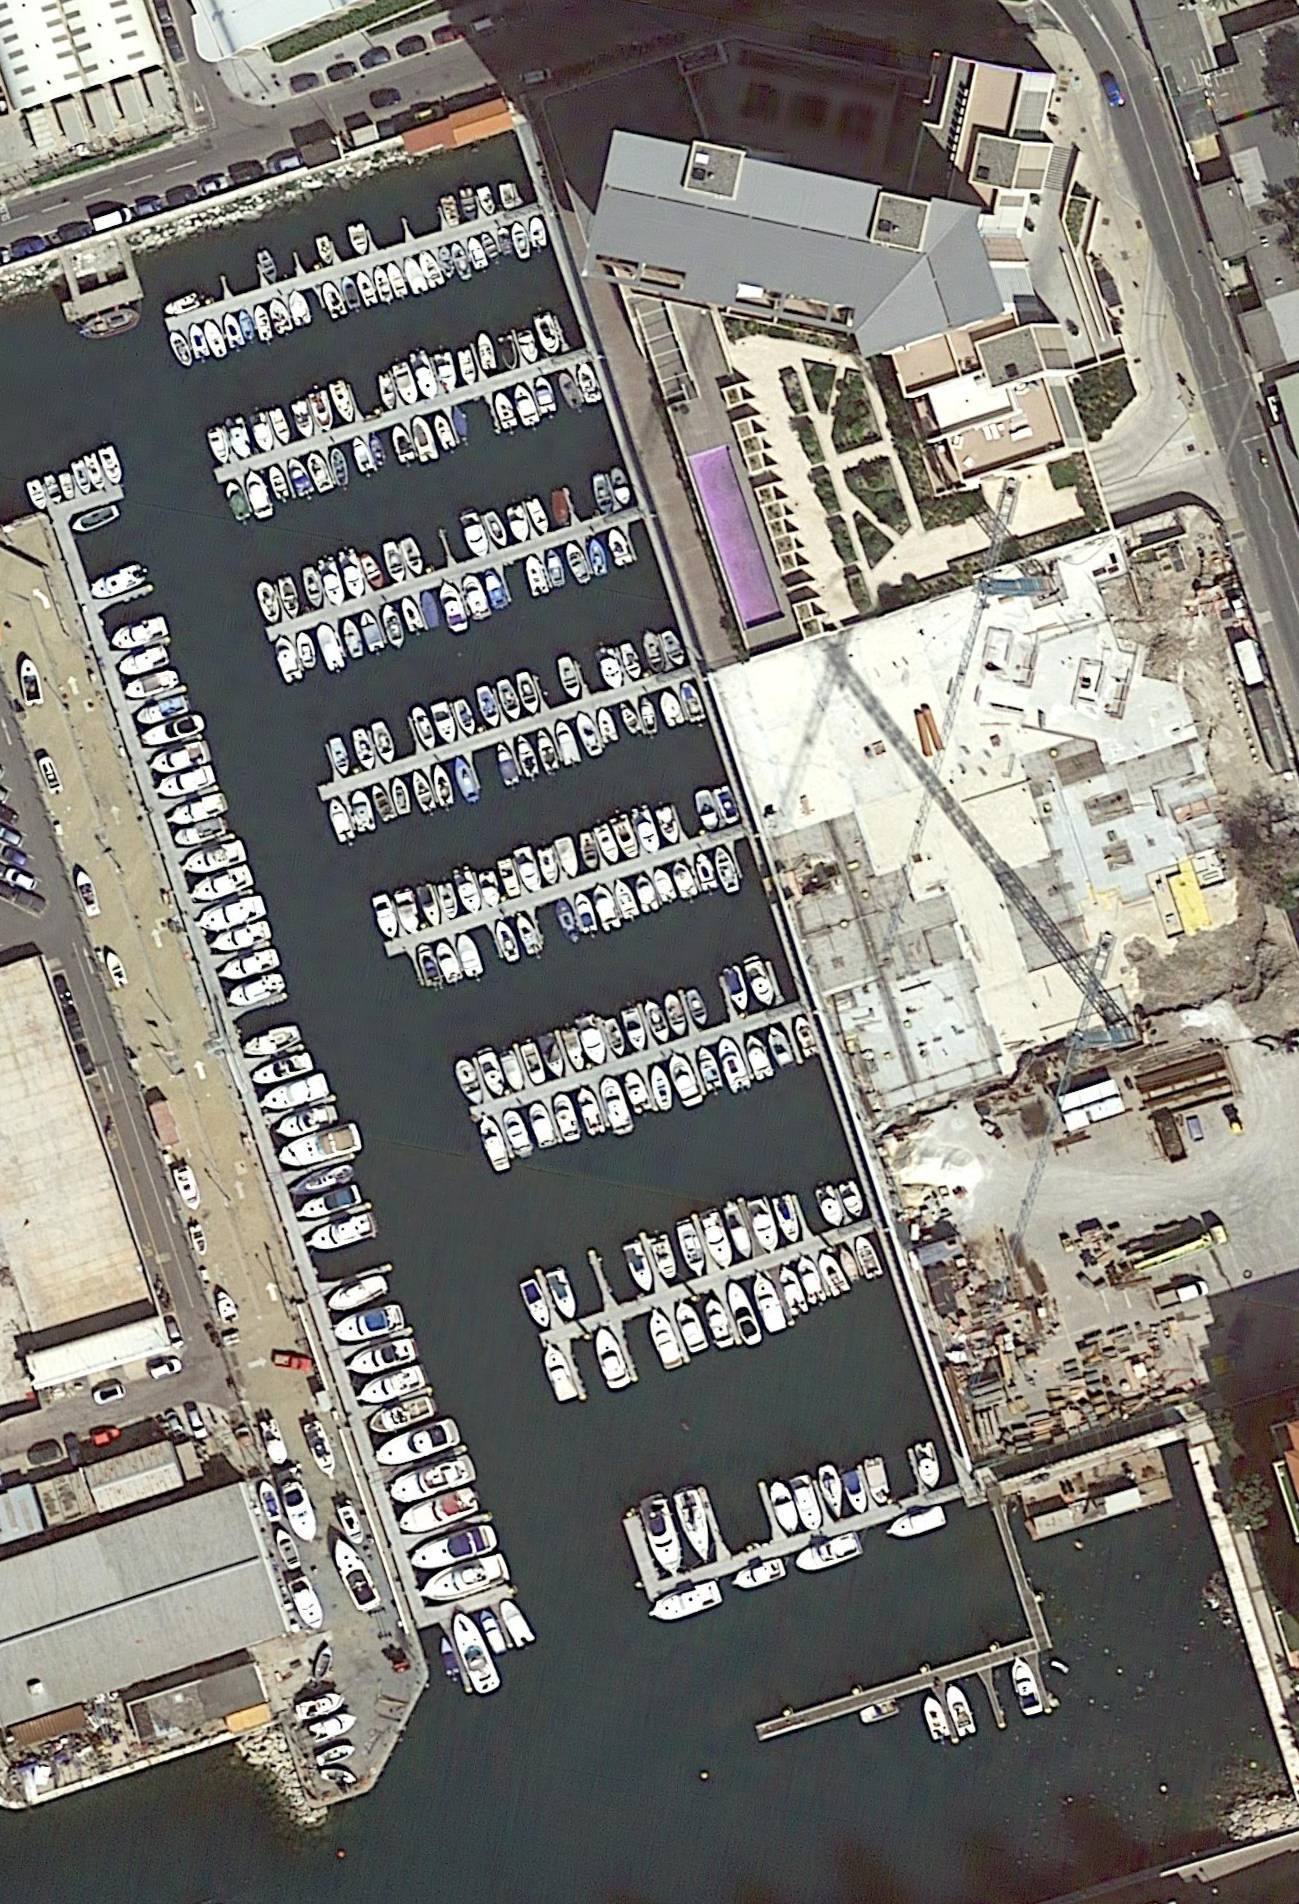harbor: (45, 480, 529, 1671), (519, 1162, 882, 1411), (307, 624, 704, 843), (205, 307, 603, 524), (256, 466, 645, 680), (370, 781, 754, 997), (451, 951, 819, 1175), (159, 179, 537, 369), (622, 1406, 953, 1605), (754, 1633, 1062, 1806)
ship: (417, 1551, 514, 1609), (386, 1453, 480, 1508), (372, 1416, 463, 1473), (406, 1522, 501, 1576), (273, 1121, 365, 1176), (635, 1492, 690, 1580), (393, 1484, 482, 1539), (448, 1610, 503, 1697), (328, 1537, 383, 1615), (645, 1578, 725, 1628), (671, 1484, 717, 1568), (302, 1211, 379, 1257), (343, 1335, 419, 1380), (352, 1364, 427, 1409), (793, 1532, 865, 1578), (331, 1304, 408, 1346), (365, 1395, 435, 1440), (256, 1074, 331, 1115), (195, 894, 268, 938), (187, 862, 256, 906), (278, 1480, 323, 1547), (324, 1272, 391, 1317), (294, 1183, 363, 1225), (589, 1324, 632, 1390), (286, 1162, 357, 1201), (179, 839, 247, 880), (644, 1306, 686, 1372), (273, 1102, 340, 1143), (723, 1282, 764, 1348), (163, 791, 231, 830), (153, 762, 218, 803), (748, 1270, 788, 1335), (139, 710, 205, 749), (205, 919, 273, 956), (148, 739, 213, 778), (538, 1341, 579, 1403), (285, 1576, 328, 1633), (249, 1052, 315, 1089), (77, 305, 143, 343), (663, 1050, 704, 1110), (226, 972, 289, 1011), (239, 1023, 302, 1062), (87, 563, 148, 603), (302, 1419, 341, 1482), (597, 1076, 636, 1139), (715, 1034, 754, 1097), (216, 948, 282, 984), (699, 1208, 736, 1272), (884, 1505, 947, 1542), (1005, 1657, 1044, 1717), (729, 1555, 788, 1594), (107, 616, 171, 653), (516, 1278, 557, 1333), (495, 1597, 537, 1649), (745, 1197, 783, 1254), (434, 579, 472, 637), (122, 668, 181, 705), (476, 1113, 512, 1172), (788, 1474, 825, 1534), (741, 955, 780, 1008), (673, 1301, 710, 1356), (116, 642, 171, 680), (674, 1218, 709, 1278), (174, 816, 231, 851), (767, 1479, 801, 1537), (622, 1240, 658, 1295), (722, 1202, 755, 1262), (574, 1013, 609, 1069), (814, 1464, 849, 1521), (451, 1056, 487, 1110), (545, 1267, 580, 1322), (702, 1296, 736, 1351), (242, 467, 276, 522), (942, 1683, 976, 1738), (501, 1108, 537, 1160), (136, 694, 192, 728), (775, 1265, 810, 1318), (294, 1690, 349, 1723), (171, 1163, 205, 1215), (457, 508, 492, 560), (794, 1253, 827, 1306), (474, 1046, 508, 1100), (814, 1250, 851, 1299), (571, 710, 608, 760), (308, 1710, 359, 1745), (647, 1233, 681, 1283), (459, 571, 493, 622), (271, 634, 305, 684), (771, 1194, 804, 1246), (69, 502, 122, 535), (576, 1085, 608, 1139), (334, 1499, 367, 1550), (408, 414, 441, 464), (512, 845, 545, 896), (408, 350, 440, 402), (631, 804, 663, 857), (450, 754, 482, 806), (813, 1183, 846, 1233), (525, 1101, 558, 1150), (451, 867, 485, 916), (72, 867, 103, 920), (590, 883, 622, 933), (314, 622, 346, 673), (851, 1233, 884, 1280), (742, 1033, 775, 1081), (551, 1092, 582, 1144), (712, 843, 742, 896), (370, 893, 402, 942), (492, 917, 524, 966), (913, 1440, 943, 1490), (720, 964, 752, 1011), (563, 540, 595, 587), (325, 796, 357, 843), (453, 932, 485, 979), (260, 1416, 291, 1466), (477, 1607, 508, 1657), (537, 1032, 567, 1081), (512, 668, 542, 718), (302, 450, 336, 495), (272, 1526, 304, 1573), (327, 379, 359, 425), (610, 815, 642, 861), (553, 833, 584, 880), (433, 939, 464, 985), (430, 700, 461, 747), (622, 1068, 652, 1115), (694, 1045, 725, 1092), (642, 998, 673, 1046), (767, 1024, 797, 1072), (920, 1693, 950, 1741), (473, 683, 503, 731), (338, 550, 367, 599), (415, 883, 446, 929), (596, 645, 626, 692), (495, 677, 525, 723), (554, 655, 584, 702), (17, 657, 45, 707), (415, 247, 447, 291), (553, 897, 582, 945), (592, 823, 623, 867), (639, 626, 668, 674), (409, 705, 438, 752), (255, 1479, 285, 1523), (532, 311, 563, 356), (574, 362, 605, 407), (511, 382, 541, 427), (391, 362, 421, 407), (514, 911, 544, 956), (864, 1455, 891, 1505), (320, 560, 347, 609), (621, 1007, 649, 1053), (840, 1470, 869, 1516), (255, 580, 284, 626), (532, 728, 561, 774), (553, 721, 582, 767), (285, 454, 315, 498), (408, 770, 438, 813), (393, 888, 421, 936), (519, 1042, 548, 1087), (369, 721, 398, 765), (357, 609, 386, 654), (349, 789, 378, 833), (415, 943, 444, 988), (668, 859, 699, 901), (308, 389, 336, 435), (350, 726, 378, 773), (223, 479, 252, 522), (380, 603, 406, 651), (226, 417, 253, 462), (693, 789, 720, 833), (380, 540, 408, 585), (514, 734, 541, 778), (835, 1244, 864, 1286), (401, 255, 430, 297), (166, 328, 195, 370), (555, 370, 584, 412), (490, 389, 519, 431), (600, 1017, 629, 1059), (610, 877, 639, 919), (655, 804, 684, 846), (677, 681, 706, 723), (451, 697, 480, 739), (649, 1063, 674, 1113), (663, 991, 689, 1037), (201, 318, 229, 362), (499, 1050, 527, 1094), (793, 1016, 820, 1059), (399, 535, 427, 579), (482, 511, 512, 550), (838, 1179, 866, 1220), (320, 281, 349, 321), (205, 427, 234, 467), (276, 576, 302, 621), (495, 744, 521, 789), (103, 949, 130, 991), (315, 1742, 357, 1769), (389, 422, 417, 464), (249, 412, 276, 454), (571, 893, 599, 935), (632, 872, 660, 914), (327, 736, 354, 778), (482, 569, 509, 611), (448, 240, 474, 284), (858, 1699, 901, 1725), (590, 472, 616, 515), (524, 554, 550, 598), (299, 566, 325, 609), (340, 616, 366, 660), (476, 870, 505, 909), (430, 762, 456, 806), (285, 286, 312, 327), (606, 527, 634, 567), (525, 498, 553, 538), (618, 641, 645, 681), (563, 1029, 587, 1074), (693, 851, 719, 893), (268, 407, 294, 449), (359, 553, 388, 590), (615, 699, 644, 736), (684, 988, 712, 1027), (369, 784, 396, 823), (660, 628, 687, 667), (98, 446, 124, 486), (82, 451, 108, 492), (498, 857, 524, 897), (657, 690, 686, 726), (255, 247, 282, 285), (220, 311, 247, 349), (532, 373, 557, 415), (434, 352, 459, 394), (383, 260, 409, 299), (268, 297, 294, 336), (505, 505, 531, 544), (609, 466, 634, 506), (651, 867, 678, 903), (349, 435, 375, 473), (419, 590, 446, 628), (399, 596, 425, 634), (163, 294, 203, 318), (69, 459, 94, 498), (433, 412, 457, 451), (291, 399, 315, 438), (389, 777, 414, 816), (464, 234, 490, 271), (25, 477, 51, 514), (370, 263, 393, 304), (509, 221, 532, 262), (595, 706, 619, 744), (312, 1644, 336, 1683), (437, 883, 460, 922), (354, 271, 379, 307), (479, 231, 503, 268), (330, 447, 352, 488), (589, 538, 610, 579), (187, 323, 210, 360), (538, 848, 561, 885), (297, 631, 320, 668), (476, 331, 498, 370), (579, 832, 600, 871), (545, 548, 567, 587), (188, 1223, 211, 1259), (516, 328, 540, 365), (456, 349, 477, 386), (338, 275, 362, 310), (440, 195, 463, 230), (438, 1636, 459, 1675), (349, 221, 370, 258), (268, 464, 289, 501), (498, 336, 519, 372), (253, 304, 273, 341), (638, 697, 658, 735), (236, 310, 257, 341), (437, 246, 457, 279), (459, 188, 479, 221), (476, 187, 498, 217), (320, 1768, 357, 1785), (379, 373, 396, 411), (315, 234, 336, 266), (43, 475, 64, 506), (369, 434, 388, 467), (553, 490, 568, 527), (528, 217, 547, 247), (58, 472, 77, 502)
small vehicle: (22, 1437, 68, 1469), (1095, 69, 1128, 113), (90, 204, 135, 234), (1, 864, 42, 896), (265, 149, 305, 179), (55, 217, 95, 247), (9, 234, 49, 263), (90, 1379, 127, 1408), (148, 1356, 185, 1385), (230, 161, 268, 190), (411, 101, 448, 129), (184, 1403, 210, 1441), (430, 22, 469, 46), (393, 35, 428, 62), (356, 45, 391, 72), (323, 56, 357, 84), (198, 172, 233, 200), (288, 69, 321, 97), (132, 195, 166, 221), (163, 184, 198, 210), (367, 87, 404, 111), (91, 1424, 124, 1450), (161, 1319, 187, 1350), (521, 67, 554, 90), (1, 846, 30, 871)
